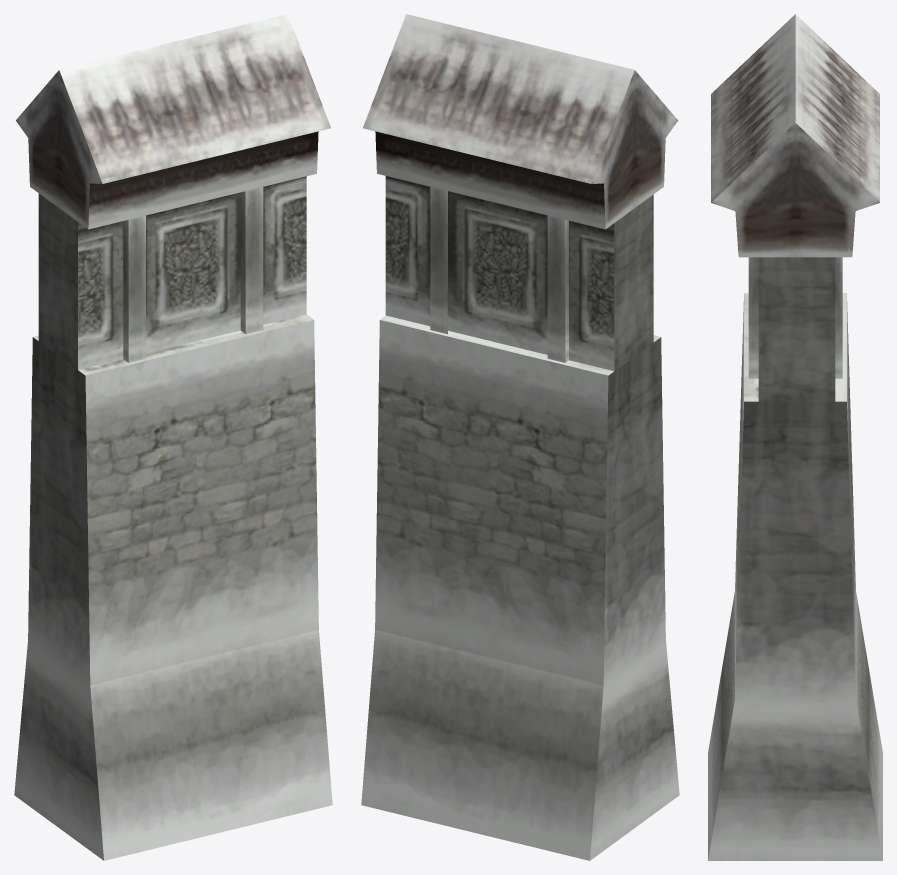
File: snow-middledam-04_lod_01.fbx
3 views of the same model, side by side, from view 1: azimuth 30°, elevation 25°; view 2: azimuth 150°, elevation 25°; view 3: azimuth 270°, elevation 25° (orthographic). The views are drawn at different scales.
Parts seen in each view (by area): view 1: snow-middledam-02; view 2: snow-middledam-02; view 3: snow-middledam-02.
Boxes of the visible parts, x1=… form: snow-middledam-02: x1=14, y1=14, x2=332, y2=860; snow-middledam-02: x1=361, y1=14, x2=679, y2=860; snow-middledam-02: x1=708, y1=14, x2=882, y2=860.
Bounding box in the file's own units: 2.5 × 7.92 × 1.7.
